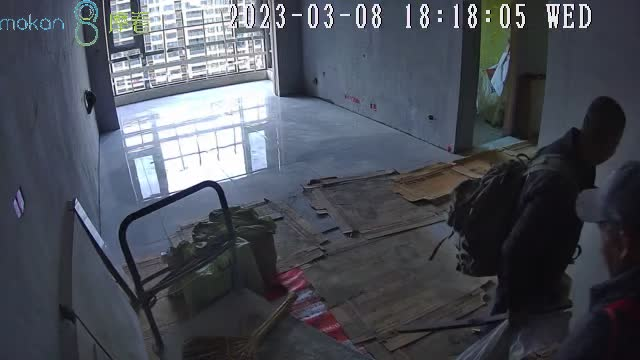people: (511, 84, 640, 352)
window: (112, 1, 272, 99)
